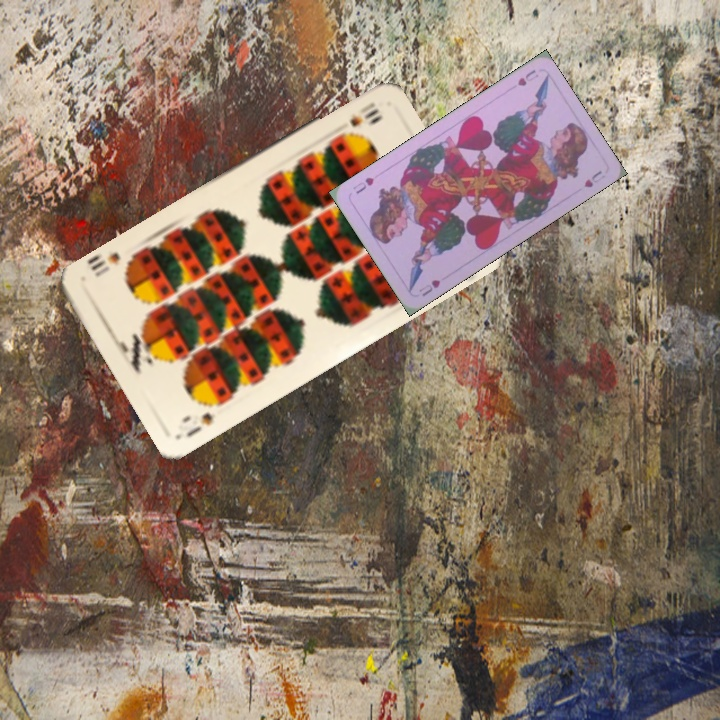HU: (415, 275, 443, 299), (513, 65, 541, 89)
S10: (345, 98, 382, 130), (181, 408, 216, 440)
